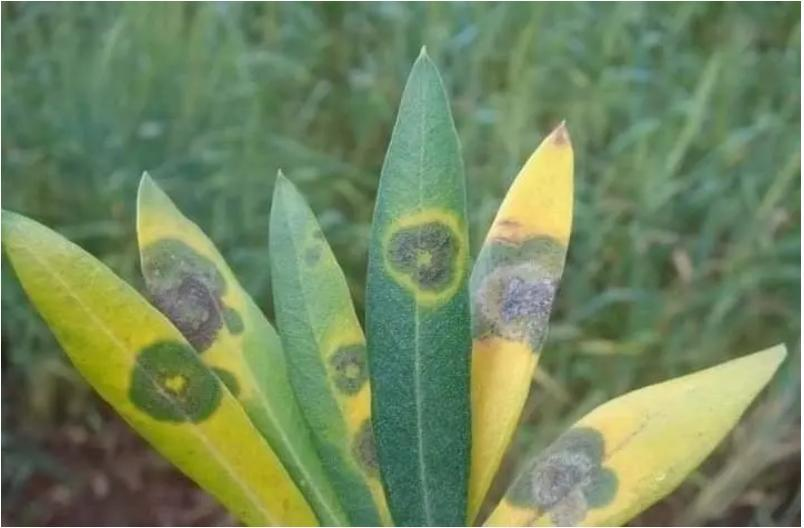OlivePeacockSpot: (1, 211, 316, 528), (136, 172, 348, 528), (482, 344, 790, 528), (364, 42, 470, 528), (268, 174, 392, 528), (467, 118, 578, 446)
